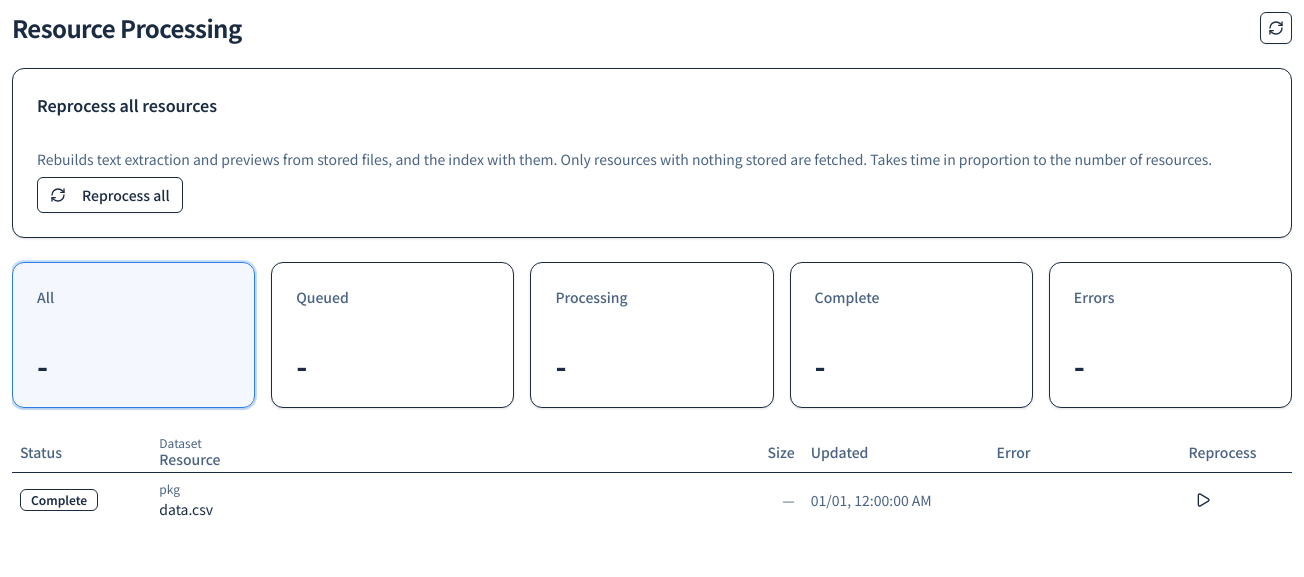
Test: AdminJobsPage › says so, and releases the row, when a resource cannot be queued
This screenshot has width=1304, height=577.
Click the button titled "Reprocess" at (1202, 500), box [1188, 486, 1216, 514]
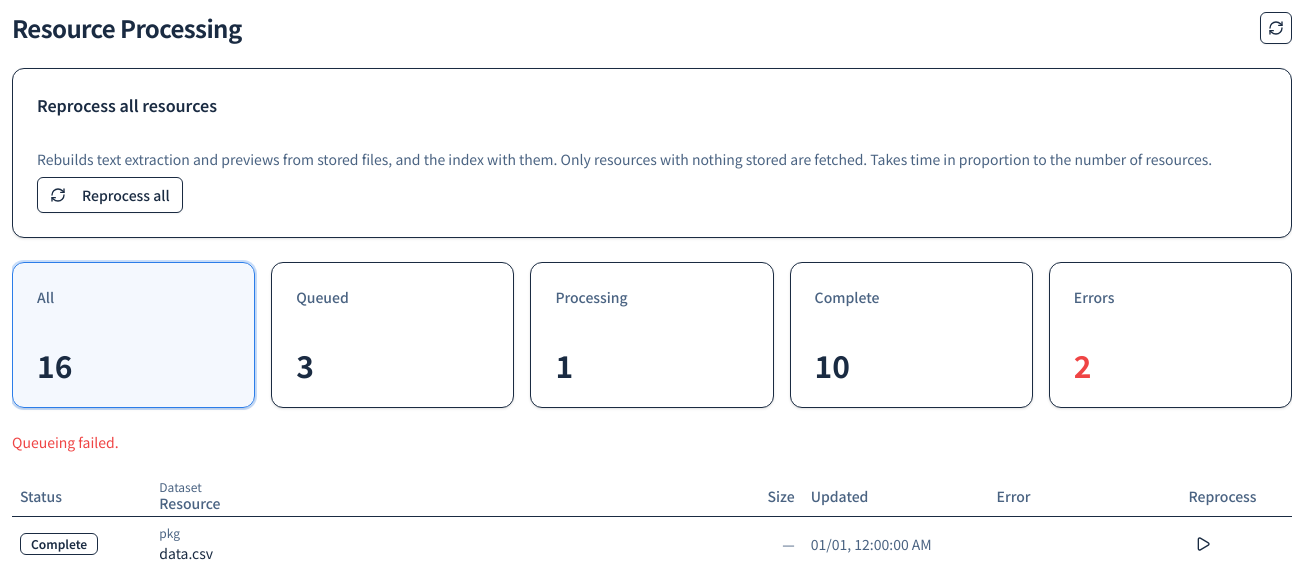
Expected: the button titled "Reprocess" is enabled, [1188, 530, 1216, 558]
Result: the message "Queueing failed." is shown at [12, 432, 119, 452]
